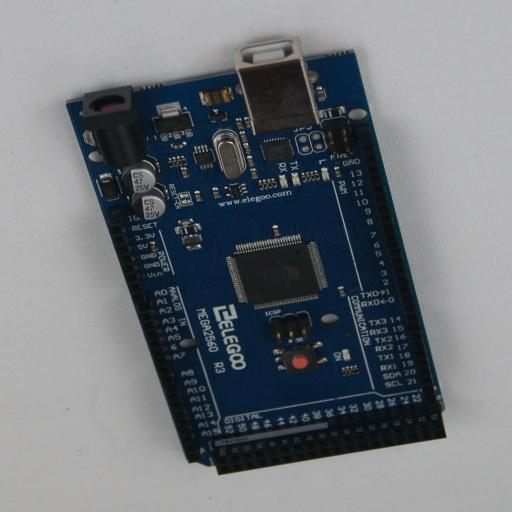Arduino Mega 2560 -Blue-: (66, 40, 446, 475)
